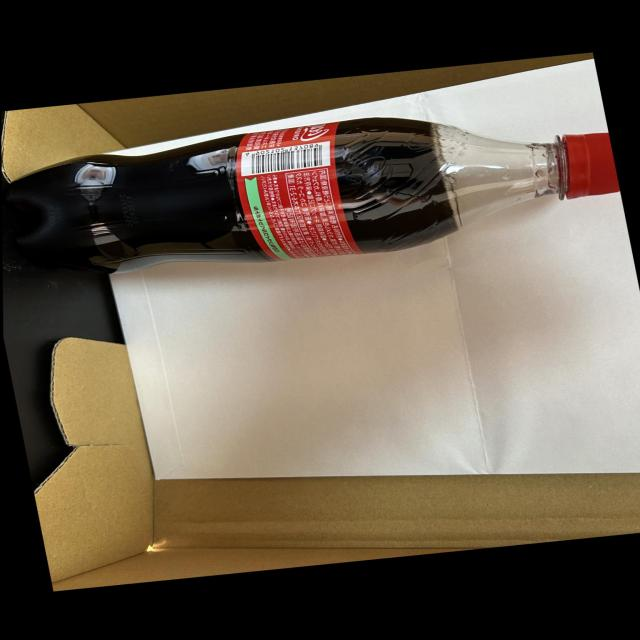high: (7, 116, 619, 273)
